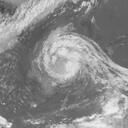cyclone: (37, 29, 84, 82)
